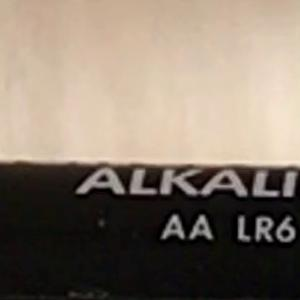ALK: (67, 159, 166, 204)
